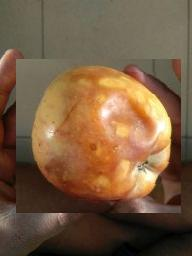Apple Rotten: (16, 59, 181, 213)
